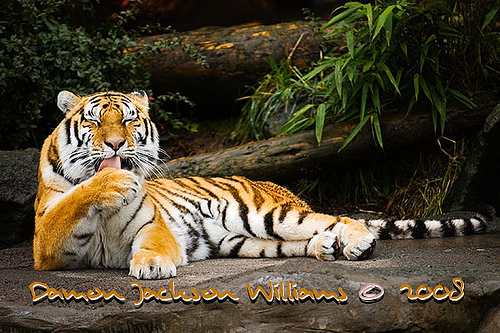Tigre: (28, 81, 377, 286)
